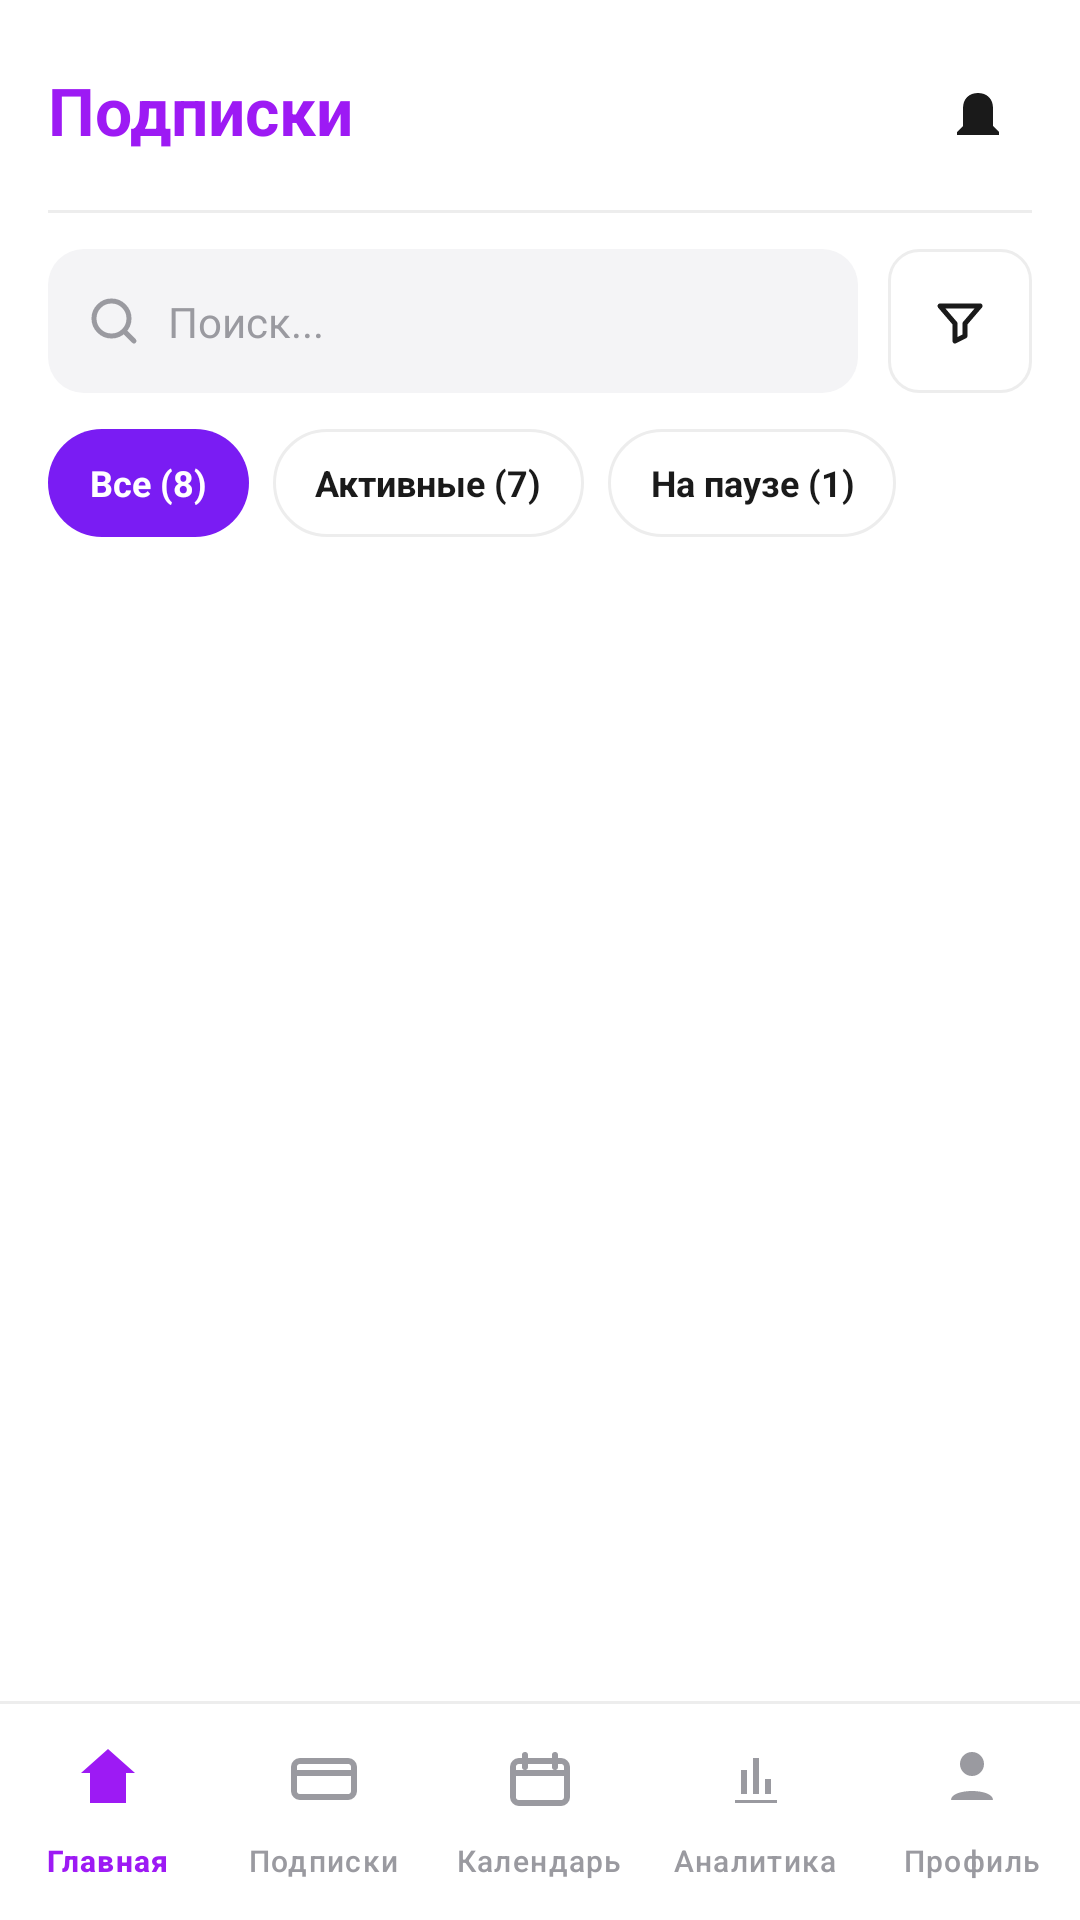

Icons on this 1080px×1920px Android screen, each with its box as detection(x1, y1, x2, y2):
bell: detection(957, 93, 999, 135)
filter: detection(937, 303, 983, 344)
search: detection(91, 298, 137, 344)
